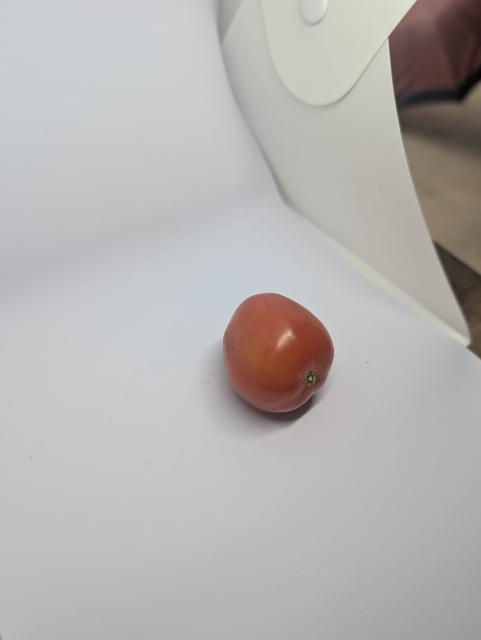red: (217, 286, 341, 416)
